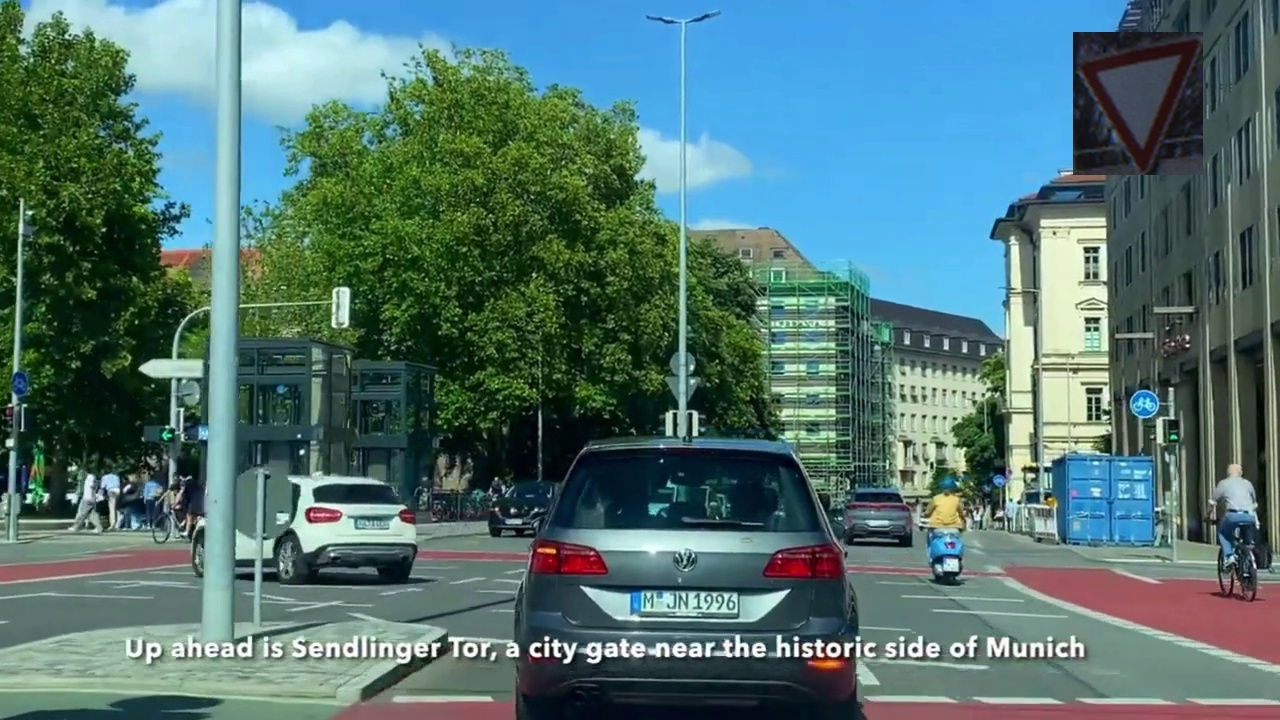Yield: (1073, 32, 1203, 175)
